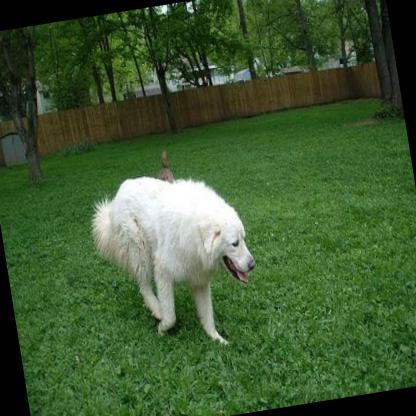Great_Pyrenees: (82, 157, 266, 362)
